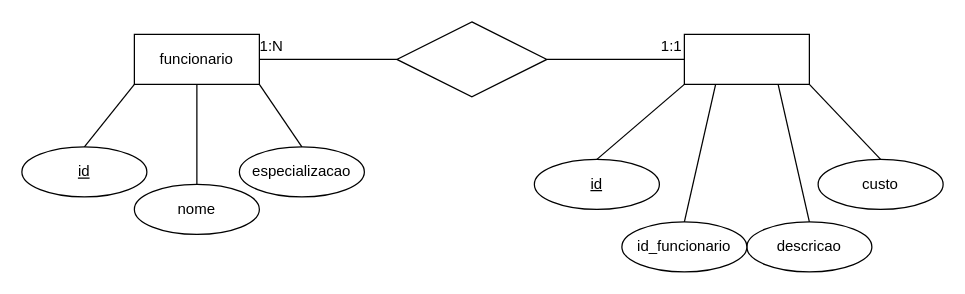
This 965x294 diagram has some shape labels left out. The centre of each missing label's shape, as x and y in pixels:
"ordemServico" belongs at pixel 746 58.
"Relationship" belongs at pixel 471 59.
